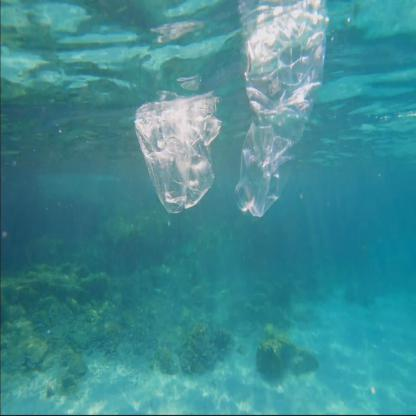Rác: (129, 50, 232, 225), (235, 119, 307, 213)
